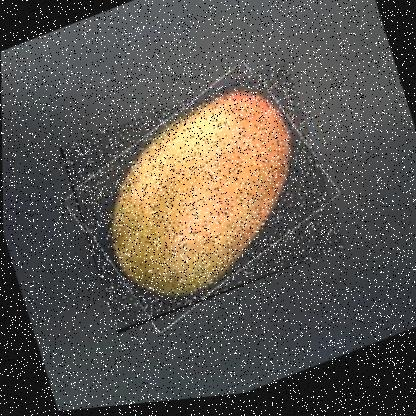mango: (56, 62, 344, 341)
